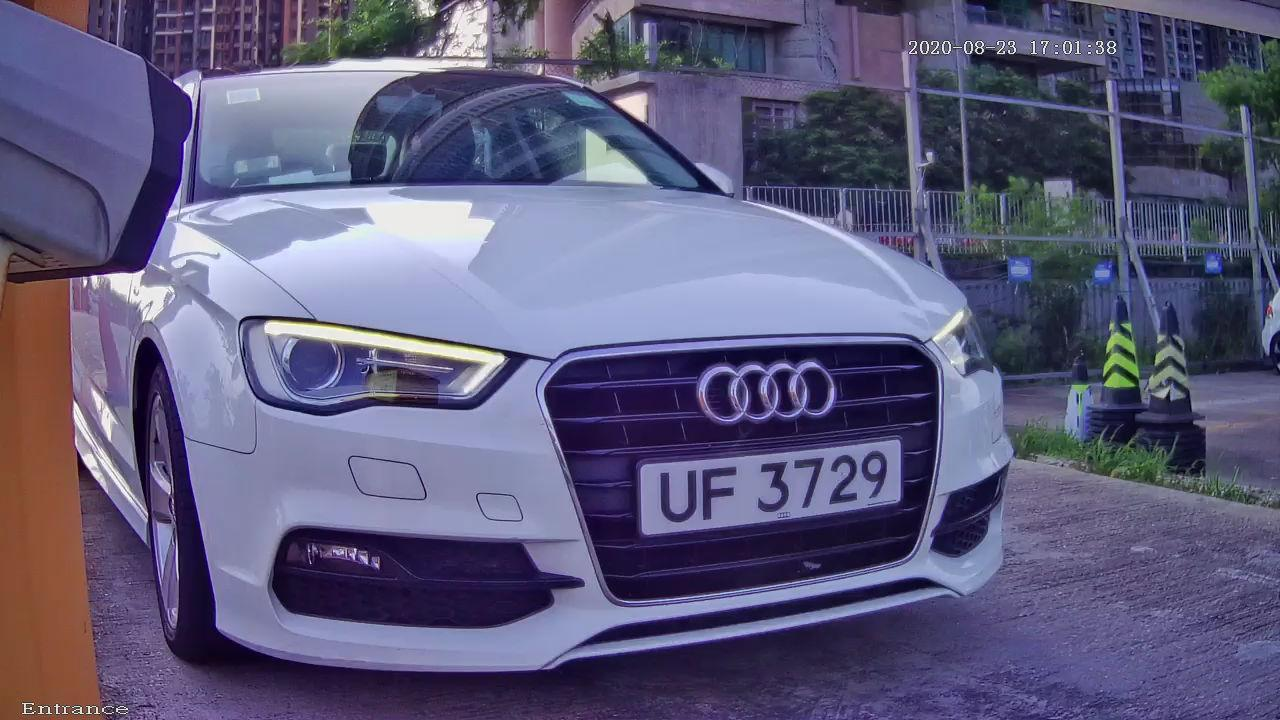Car: (29, 23, 1103, 704)
License Plate: (602, 383, 957, 583)
